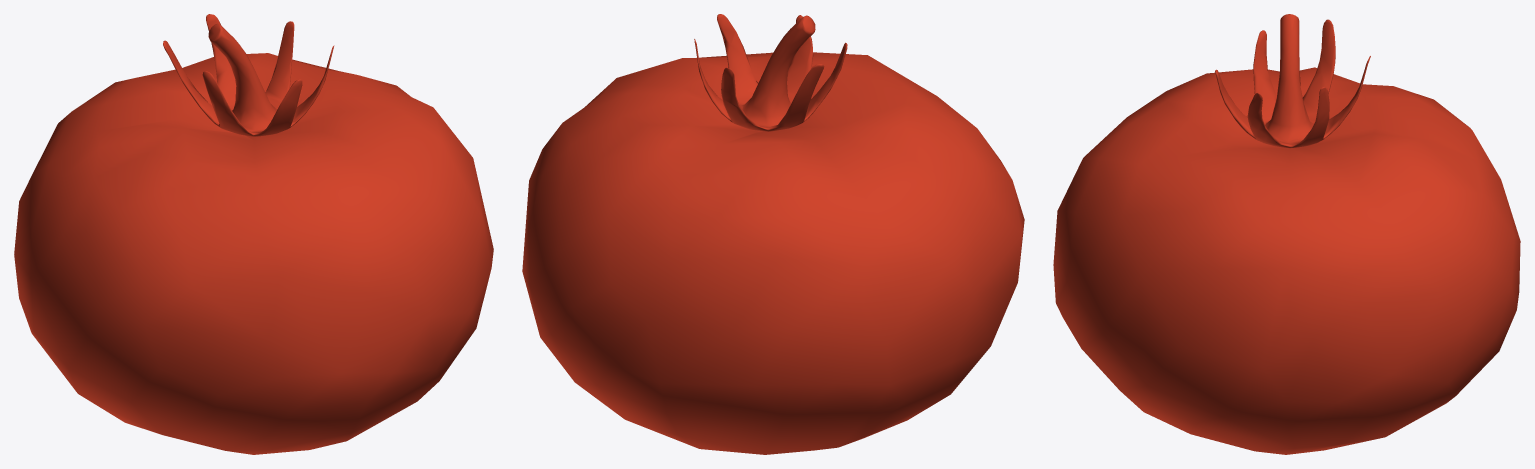
File: Tomato.fbx
The picture shows the model from 3 angles, left to right: view 1: azimuth 30°, elevation 25°; view 2: azimuth 150°, elevation 25°; view 3: azimuth 270°, elevation 25°; orthographic projection. The views are drawn at different scales.
Visible parts, largest first — view 1: Tomato; view 2: Tomato; view 3: Tomato.
Part boxes in pixels (x1,y1,x2,y2): Tomato: (14, 14, 493, 454); Tomato: (522, 14, 1024, 454); Tomato: (1053, 14, 1520, 454).
Size of the model in its own units: 12.34 by 11.49 by 12.23.
